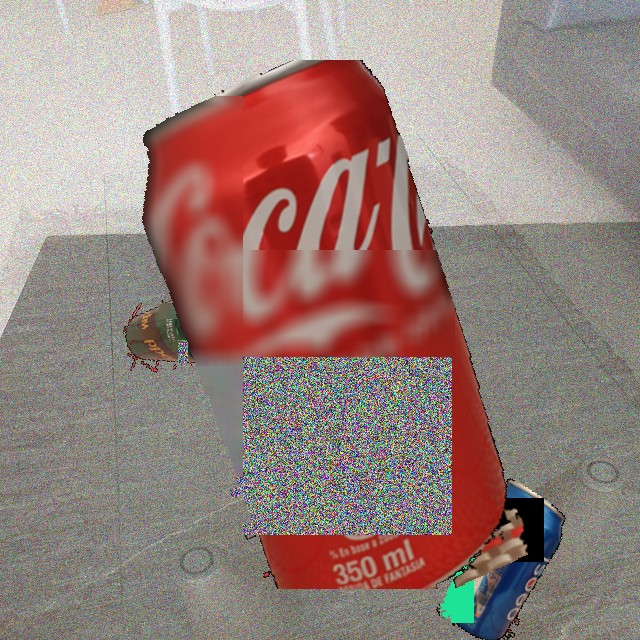coca cola: (125, 60, 545, 589)
pepsi: (435, 470, 570, 640)
schweppes: (117, 285, 240, 378)
